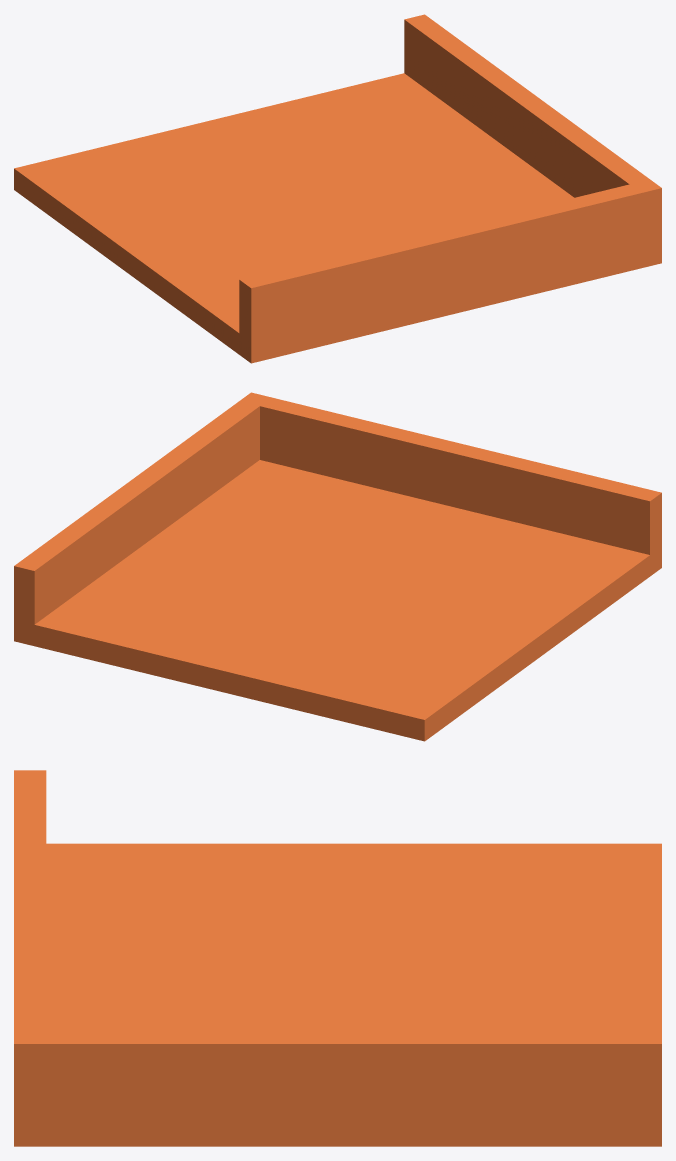
The model's file is OrangeRoof_Corner.glb.
3 views of the same model, one above another, from view 1: azimuth 30°, elevation 25°; view 2: azimuth 150°, elevation 25°; view 3: azimuth 270°, elevation 25° (orthographic). The views are drawn at different scales.
Visible parts, largest first — view 1: roof_flat_corner_orange; view 2: roof_flat_corner_orange; view 3: roof_flat_corner_orange.
Boxes of the visible parts, x1,y1,x2,y2 form: roof_flat_corner_orange: (14, 14, 661, 363); roof_flat_corner_orange: (14, 392, 661, 741); roof_flat_corner_orange: (14, 770, 661, 1146).
Size of what is drawn, in the model's own units: 4 by 0.7 by 4.
Materials: 1 (1 with a texture image).
